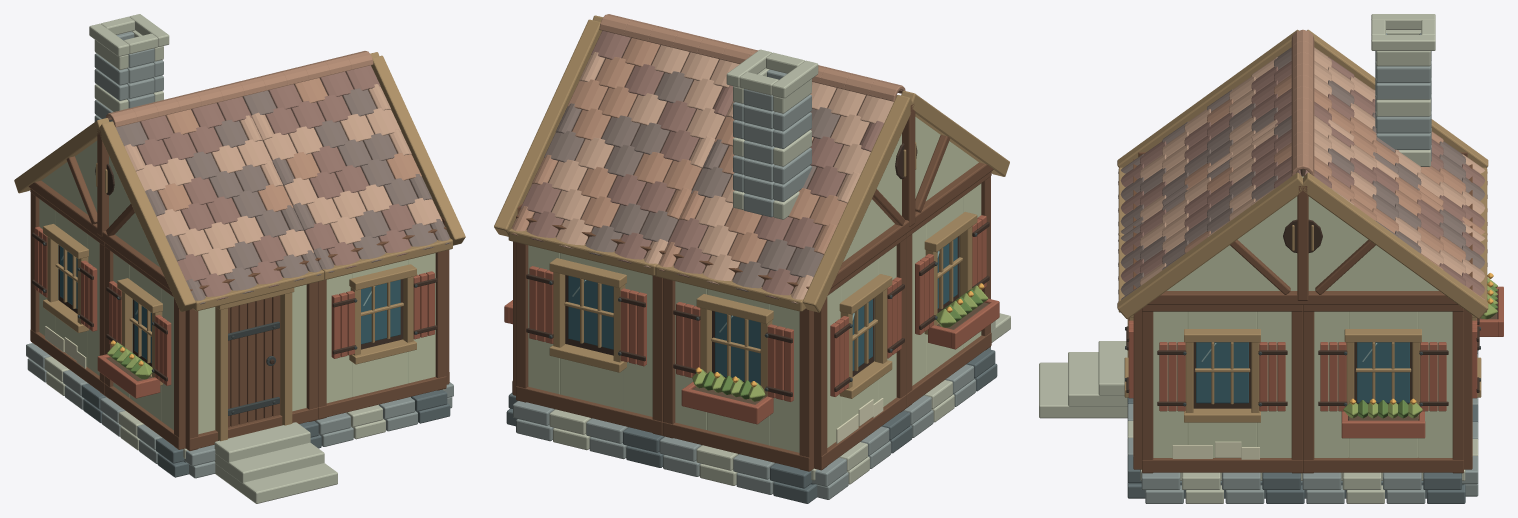
The model's file is family_starter.glb.
3 renders of one model, left to right at view 1: azimuth 30°, elevation 25°; view 2: azimuth 150°, elevation 25°; view 3: azimuth 270°, elevation 25°, orthographic. The views are drawn at different scales.
Visible parts, largest first — view 1: family_starter__029__roof_gable_4x2m__finish, family_starter__030__roof_gable_4x2m__finish, family_starter__017__wall_window_2m__finish, family_starter__002__wall_door_2m__finish, family_starter__002__wall_door_2m__structure, family_starter__032__gable_end_4m__structure, family_starter__017__wall_window_2m__structure, family_starter__033__attachment_steps_040__attachments, family_starter__012__wall_window_2m__structure, family_starter__034__attachment_chimney__attachments, family_starter__004__wall_window_2m__structure, family_starter__012__wall_window_2m__finish (+12 smaller); view 2: family_starter__029__roof_gable_4x2m__finish, family_starter__030__roof_gable_4x2m__finish, family_starter__027__wall_window_2m__finish, family_starter__032__gable_end_4m__structure, family_starter__034__attachment_chimney__attachments, family_starter__027__wall_window_2m__structure, family_starter__009__wall_window_2m__finish, family_starter__009__wall_window_2m__structure, family_starter__012__wall_window_2m__structure, family_starter__004__wall_window_2m__structure, family_starter__012__wall_window_2m__finish, family_starter__004__wall_window_2m__finish (+11 smaller); view 3: family_starter__029__roof_gable_4x2m__finish, family_starter__030__roof_gable_4x2m__finish, family_starter__031__gable_end_4m__structure, family_starter__019__wall_window_2m__finish, family_starter__024__wall_window_2m__finish, family_starter__019__wall_window_2m__structure, family_starter__031__gable_end_4m__finish, family_starter__024__wall_window_2m__structure, family_starter__034__attachment_chimney__attachments, family_starter__033__attachment_steps_040__attachments, family_starter__025__stone_skirt_2m__finish, family_starter__020__stone_skirt_2m__finish (+10 smaller).
Part boxes in pixels (left/top/right/bottom): family_starter__029__roof_gable_4x2m__finish: left=237, top=51, right=450, bottom=272; family_starter__030__roof_gable_4x2m__finish: left=105, top=82, right=321, bottom=304; family_starter__017__wall_window_2m__finish: left=326, top=253, right=435, bottom=403; family_starter__002__wall_door_2m__finish: left=198, top=284, right=306, bottom=434; family_starter__002__wall_door_2m__structure: left=185, top=258, right=317, bottom=450; family_starter__032__gable_end_4m__structure: left=14, top=118, right=195, bottom=311; family_starter__017__wall_window_2m__structure: left=317, top=227, right=446, bottom=419; family_starter__033__attachment_steps_040__attachments: left=214, top=422, right=337, bottom=503; family_starter__012__wall_window_2m__structure: left=30, top=188, right=104, bottom=395; family_starter__034__attachment_chimney__attachments: left=89, top=14, right=169, bottom=121; family_starter__004__wall_window_2m__structure: left=104, top=243, right=185, bottom=449; family_starter__012__wall_window_2m__finish: left=34, top=199, right=99, bottom=375; family_starter__029__roof_gable_4x2m__finish: left=511, top=14, right=755, bottom=267; family_starter__030__roof_gable_4x2m__finish: left=658, top=50, right=905, bottom=303; family_starter__027__wall_window_2m__finish: left=528, top=245, right=652, bottom=416; family_starter__032__gable_end_4m__structure: left=802, top=90, right=1009, bottom=312; family_starter__034__attachment_chimney__attachments: left=726, top=49, right=818, bottom=219; family_starter__027__wall_window_2m__structure: left=516, top=215, right=663, bottom=435; family_starter__009__wall_window_2m__finish: left=675, top=281, right=799, bottom=452; family_starter__009__wall_window_2m__structure: left=662, top=251, right=813, bottom=471; family_starter__012__wall_window_2m__structure: left=814, top=233, right=906, bottom=470; family_starter__004__wall_window_2m__structure: left=906, top=171, right=991, bottom=408; family_starter__012__wall_window_2m__finish: left=827, top=245, right=901, bottom=447; family_starter__004__wall_window_2m__finish: left=912, top=183, right=986, bottom=385; family_starter__029__roof_gable_4x2m__finish: left=1118, top=97, right=1487, bottom=301; family_starter__030__roof_gable_4x2m__finish: left=1118, top=29, right=1487, bottom=234; family_starter__031__gable_end_4m__structure: left=1117, top=172, right=1488, bottom=318; family_starter__019__wall_window_2m__finish: left=1153, top=311, right=1291, bottom=457; family_starter__024__wall_window_2m__finish: left=1314, top=311, right=1452, bottom=457; family_starter__019__wall_window_2m__structure: left=1142, top=305, right=1302, bottom=473; family_starter__031__gable_end_4m__finish: left=1167, top=176, right=1438, bottom=290; family_starter__024__wall_window_2m__structure: left=1303, top=305, right=1463, bottom=473; family_starter__034__attachment_chimney__attachments: left=1371, top=14, right=1435, bottom=166; family_starter__033__attachment_steps_040__attachments: left=1039, top=341, right=1127, bottom=418; family_starter__025__stone_skirt_2m__finish: left=1302, top=472, right=1465, bottom=503; family_starter__020__stone_skirt_2m__finish: left=1141, top=472, right=1304, bottom=503.
Bounding box in the file's own units: 5 × 5.08 × 5.78.
